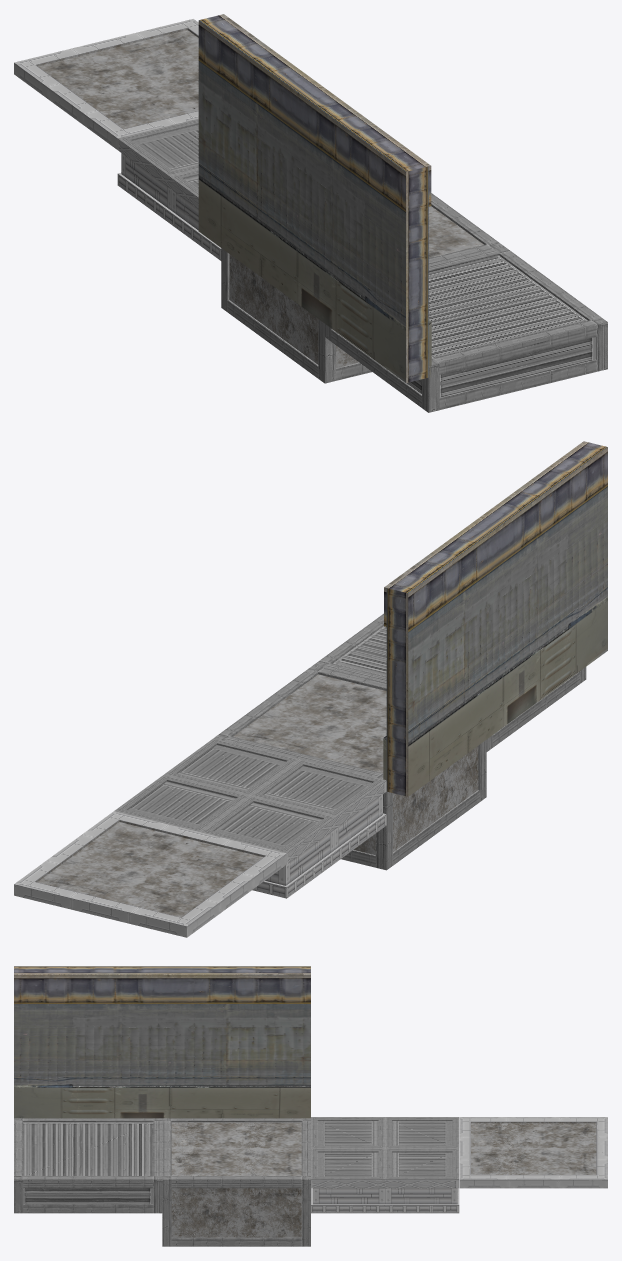
File: Platform.fbx
3 renders of one model, top to bottom at view 1: azimuth 30°, elevation 25°; view 2: azimuth 150°, elevation 25°; view 3: azimuth 270°, elevation 25°, orthographic. The views are drawn at different scales.
Parts seen in each view (by area): view 1: BackGround, P1, P4, P2, P3; view 2: BackGround, P3, P4, P2, P1; view 3: BackGround, P2, P3, P1, P4.
Boxes of the visible parts, bbox=[...] form: BackGround: bbox=[198, 14, 431, 382]; P1: bbox=[325, 246, 607, 412]; P4: bbox=[14, 19, 198, 149]; P2: bbox=[221, 193, 503, 383]; P3: bbox=[117, 118, 221, 260]; BackGround: bbox=[383, 441, 607, 796]; P3: bbox=[114, 738, 386, 898]; P4: bbox=[14, 811, 286, 937]; P2: bbox=[214, 665, 486, 870]; P1: bbox=[314, 613, 586, 751]; BackGround: bbox=[14, 966, 310, 1118]; P2: bbox=[162, 1118, 310, 1246]; P3: bbox=[311, 1117, 459, 1213]; P1: bbox=[14, 1118, 162, 1213]; P4: bbox=[459, 1117, 607, 1188].
Size of the model in its own units: 45 by 62.41 by 160.
